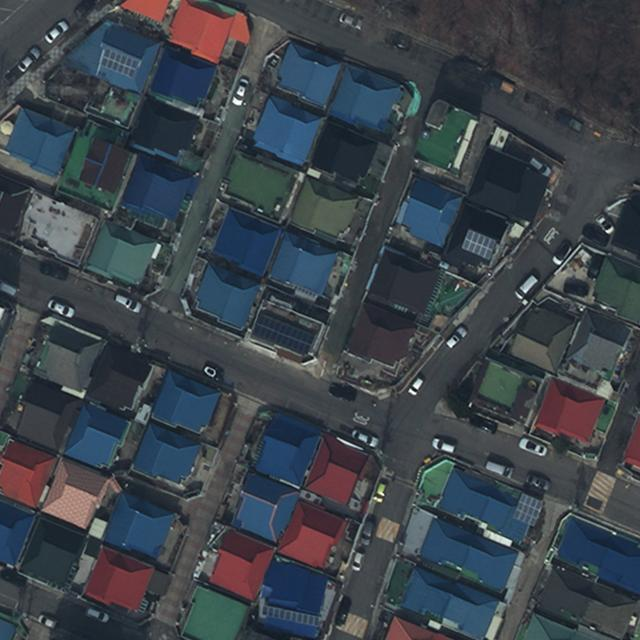panel: (249, 312, 315, 354), (96, 45, 138, 78), (260, 604, 319, 626), (510, 491, 544, 527), (459, 228, 496, 258)
